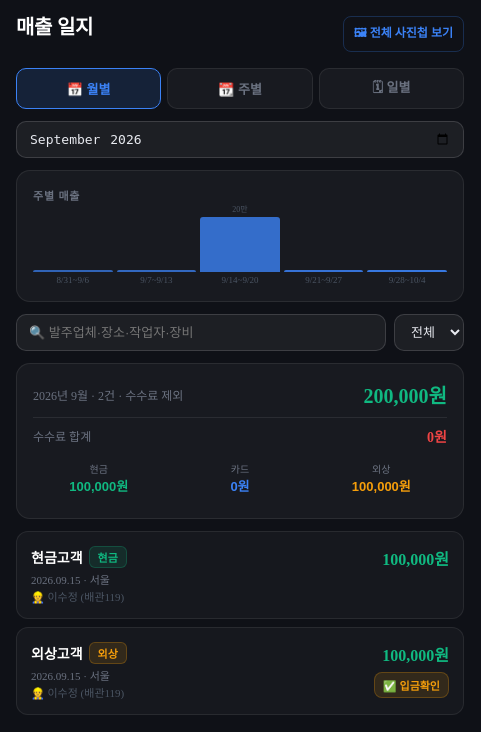
it: '필터 해제' 버튼을 누르면 전체 목록으로 돌아간다
Click the button with test id "pay-filter-credit" at x=381, y=478, box [316,454,447,502]
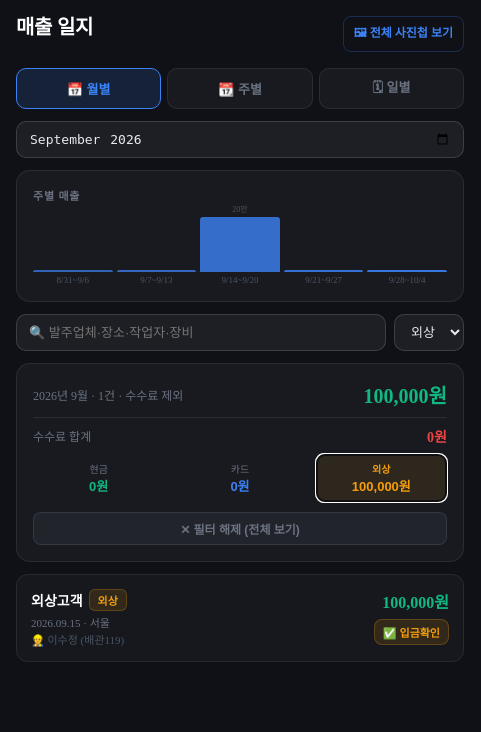
Click the button "✕ 필터 해제 (전체 보기)" at x=240, y=528, box [33,512,447,545]
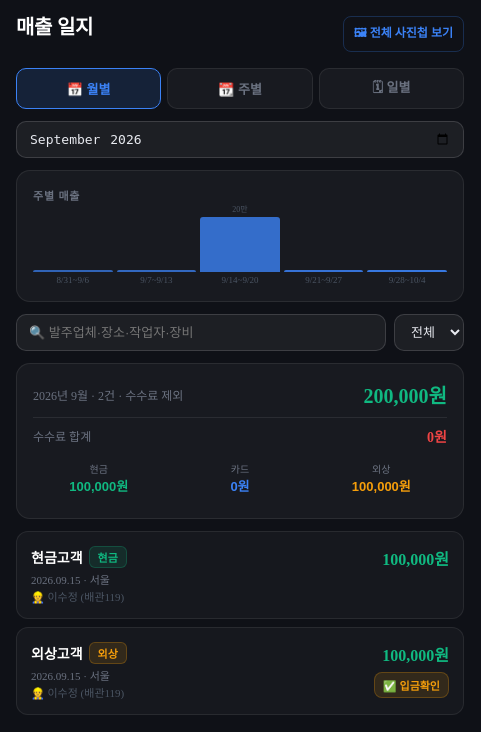
Expected: the text "외상고객" is shown, [31,643,82,663]
Expected: the text "현금고객" is shown, [31,547,82,567]
